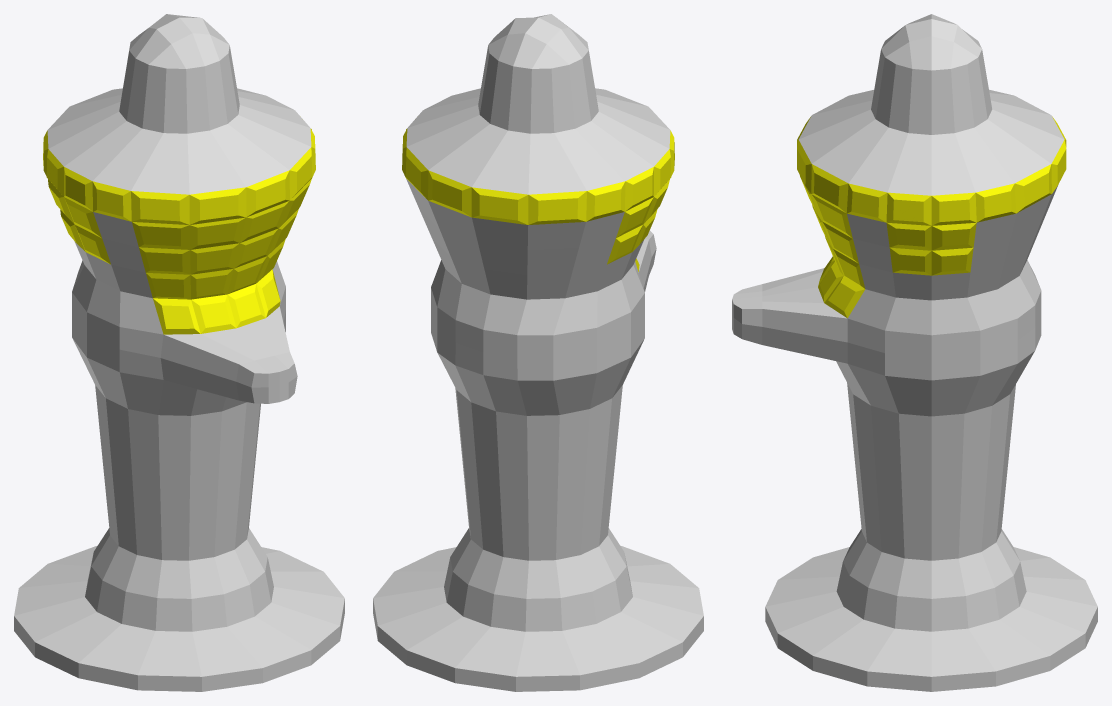
The model's file is Estatua.fbx.
The picture shows the model from 3 angles, left to right: view 1: azimuth 30°, elevation 25°; view 2: azimuth 150°, elevation 25°; view 3: azimuth 270°, elevation 25°; orthographic projection.
Parts seen in each view (by area): view 1: Estatua; view 2: Estatua; view 3: Estatua.
Part boxes in pixels (left/top/right/bottom): Estatua: left=14, top=14, right=344, bottom=691; Estatua: left=373, top=14, right=703, bottom=691; Estatua: left=732, top=14, right=1097, bottom=691.
Bounding box in the file's own units: 100 × 200 × 110.
